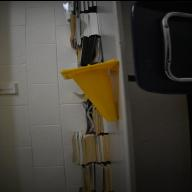cone: (60, 58, 118, 120)
